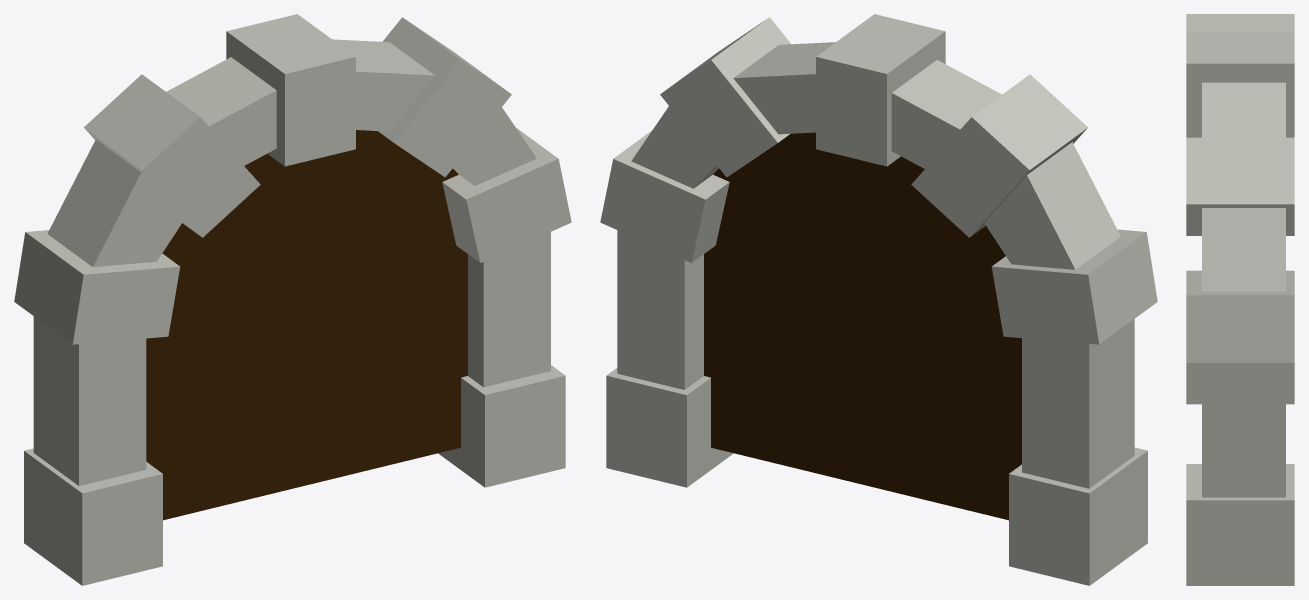
File: castlestairs_doorway.fbx
The picture shows the model from 3 angles, left to right: view 1: azimuth 30°, elevation 25°; view 2: azimuth 150°, elevation 25°; view 3: azimuth 270°, elevation 25°; orthographic projection. The views are drawn at different scales.
Visible parts, largest first — view 1: polySurface150; view 2: polySurface150; view 3: polySurface150.
Boxes of the visible parts, left/top/right/bottom form: polySurface150: left=14, top=14, right=571, bottom=585; polySurface150: left=600, top=14, right=1157, bottom=585; polySurface150: left=1186, top=14, right=1294, bottom=585.
Bounding box in the file's own units: 82.4 × 73.64 × 16.73.
Materials: 1 (1 with a texture image).
